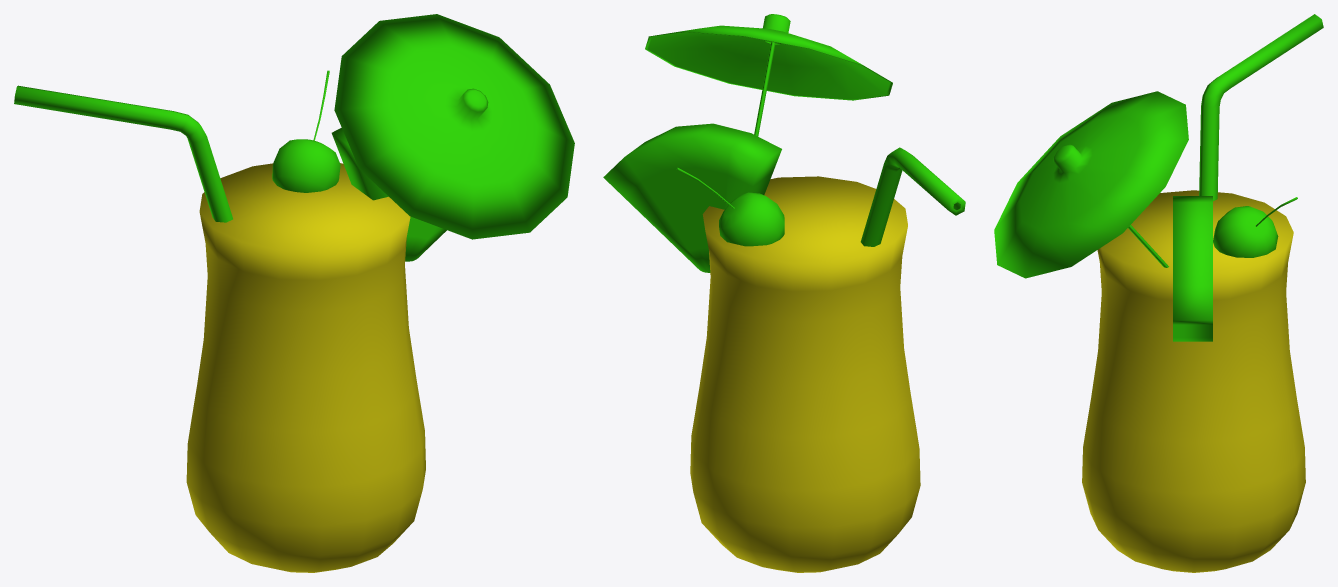
Rendered from BHP_MOD_DRI_Pina_Colada.fbx.
The picture shows the model from 3 angles, left to right: view 1: azimuth 30°, elevation 25°; view 2: azimuth 150°, elevation 25°; view 3: azimuth 270°, elevation 25°; orthographic projection. The views are drawn at different scales.
Parts seen in each view (by area): view 1: BHP_MOD_Pina_Colada; view 2: BHP_MOD_Pina_Colada; view 3: BHP_MOD_Pina_Colada.
Boxes of the visible parts, x1,y1,x2,y2 form: BHP_MOD_Pina_Colada: [14, 14, 574, 572]; BHP_MOD_Pina_Colada: [603, 14, 965, 572]; BHP_MOD_Pina_Colada: [994, 14, 1323, 572].
Size of the model in its own units: 0.2235 by 0.2578 by 0.1585.
